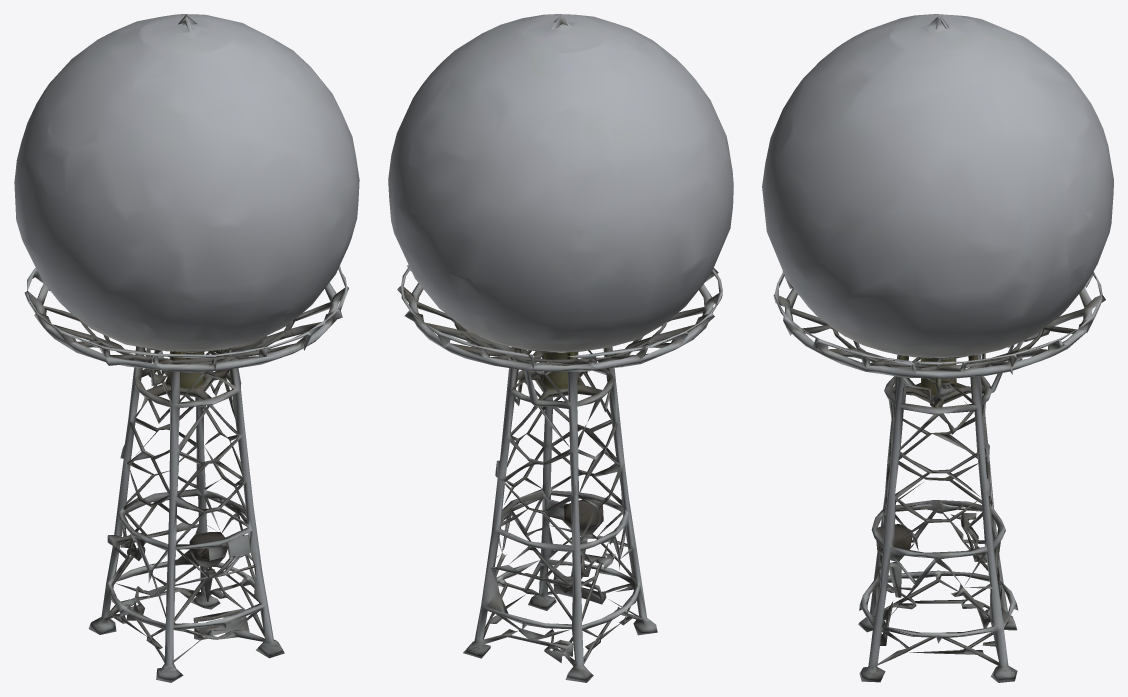
File: radar.glb
3 views of the same model, side by side, from view 1: azimuth 30°, elevation 25°; view 2: azimuth 150°, elevation 25°; view 3: azimuth 270°, elevation 25° (orthographic).
Visible parts, largest first — view 1: tripo_node_abc5be11-ed2d-483f-930e-790a582d385d; view 2: tripo_node_abc5be11-ed2d-483f-930e-790a582d385d; view 3: tripo_node_abc5be11-ed2d-483f-930e-790a582d385d.
Part boxes in pixels (<box>): tripo_node_abc5be11-ed2d-483f-930e-790a582d385d: <box>14,14,359,682</box>; tripo_node_abc5be11-ed2d-483f-930e-790a582d385d: <box>388,14,733,682</box>; tripo_node_abc5be11-ed2d-483f-930e-790a582d385d: <box>762,14,1113,682</box>.
Bounding box in the file's own units: 0.5011 × 1 × 0.5014.
1 material, 1 textured.
